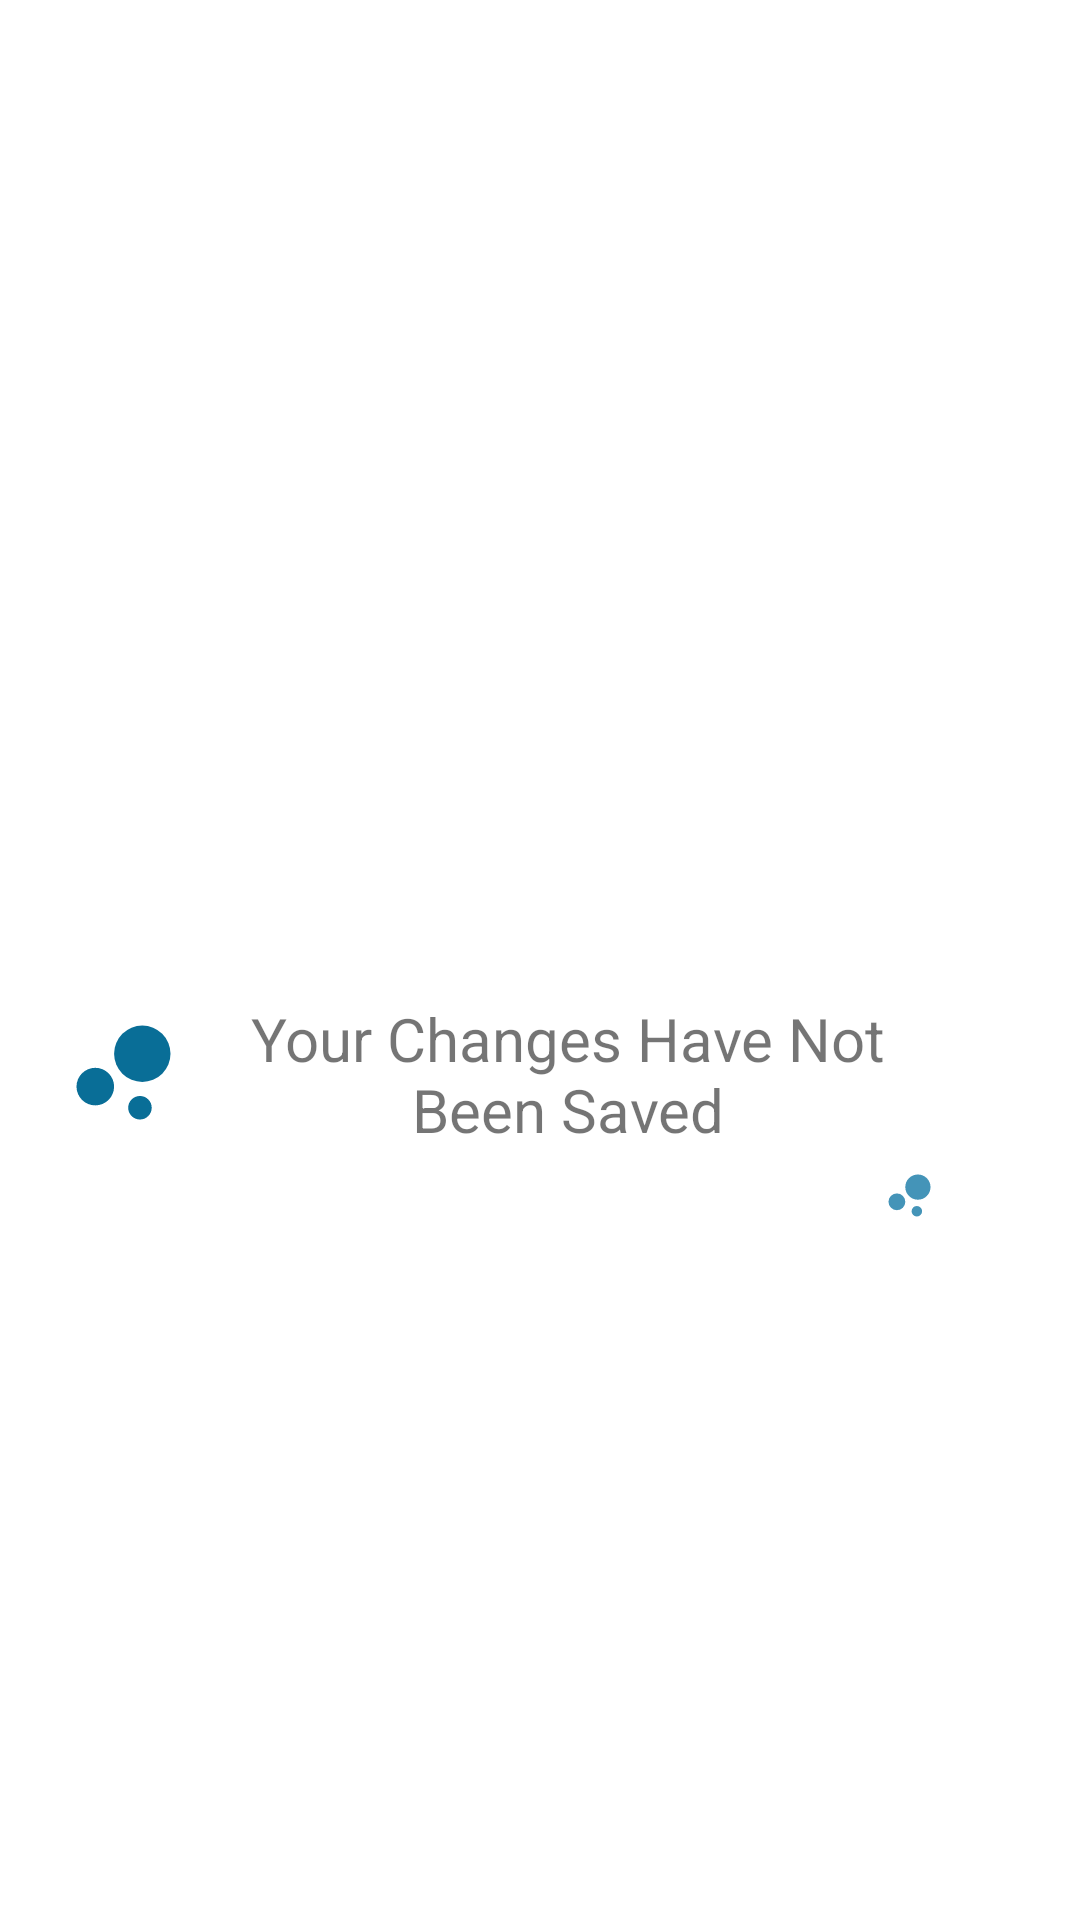

Point at icon controls on the screen. Image size 1080px×1920px, points as [x,y].
bubble chart: [909,1195]
bubble chart darker: [123,1072]
